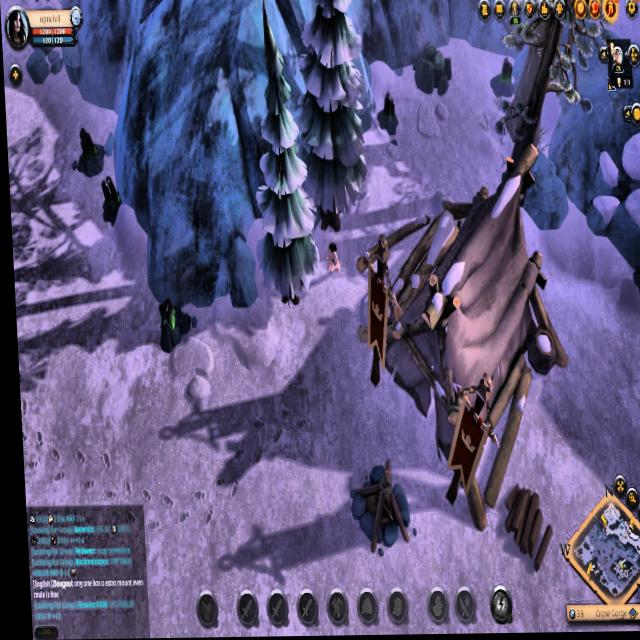sandstone: (408, 39, 456, 104)
tin_ore: (148, 292, 198, 364), (94, 170, 127, 233), (69, 128, 107, 181), (488, 57, 518, 108), (373, 89, 400, 140), (625, 258, 640, 309)
